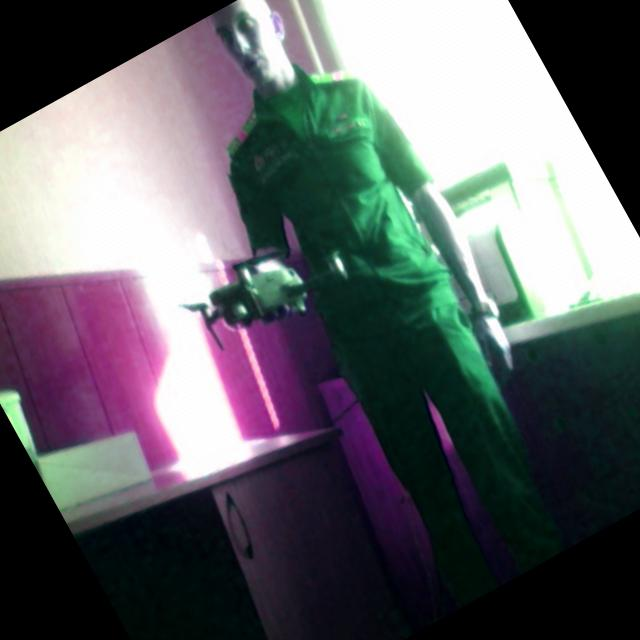drone: (162, 193, 376, 383)
